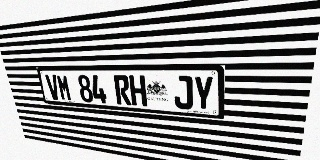4: (90, 75, 107, 104)
8: (77, 75, 94, 103)
H: (129, 75, 147, 106)
J: (173, 76, 193, 110)
M: (56, 75, 72, 101)
R: (113, 75, 131, 105)
V: (45, 75, 61, 100)
Y: (193, 76, 214, 111)
